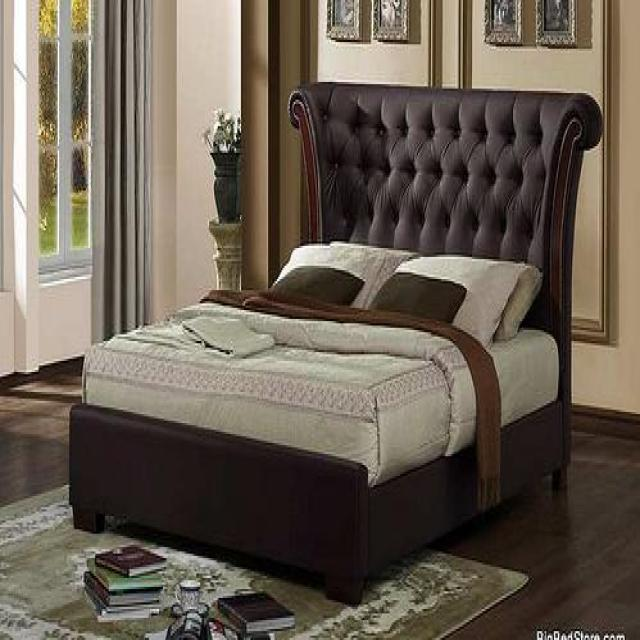bed: (70, 240, 580, 606)
